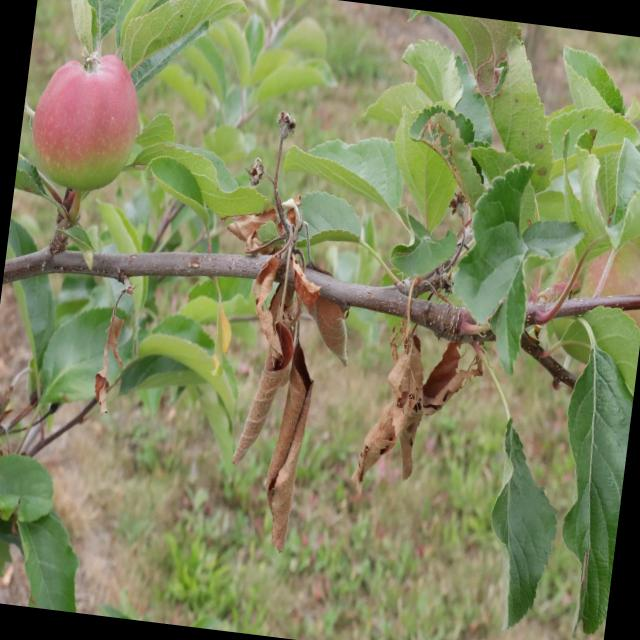-FireBlight-: (198, 180, 338, 553), (387, 294, 437, 472), (292, 265, 354, 374), (421, 328, 488, 414), (349, 398, 406, 468), (96, 291, 128, 414)
